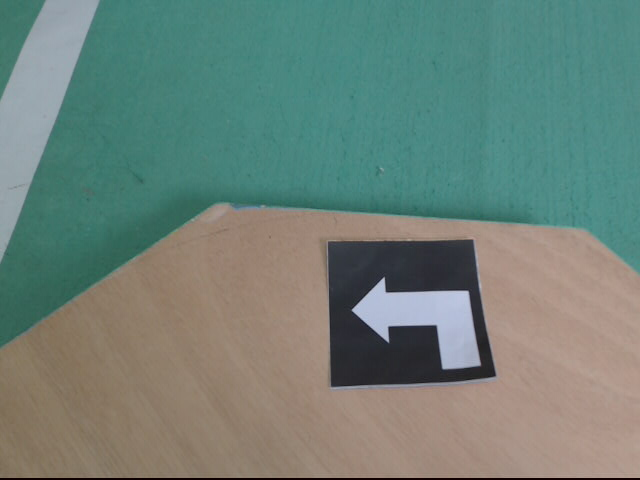left: (326, 241, 496, 388)
